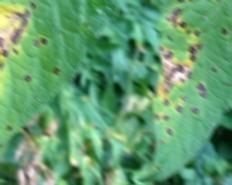Tomato Septoria leaf spot: (0, 0, 122, 173), (151, 0, 232, 179)
